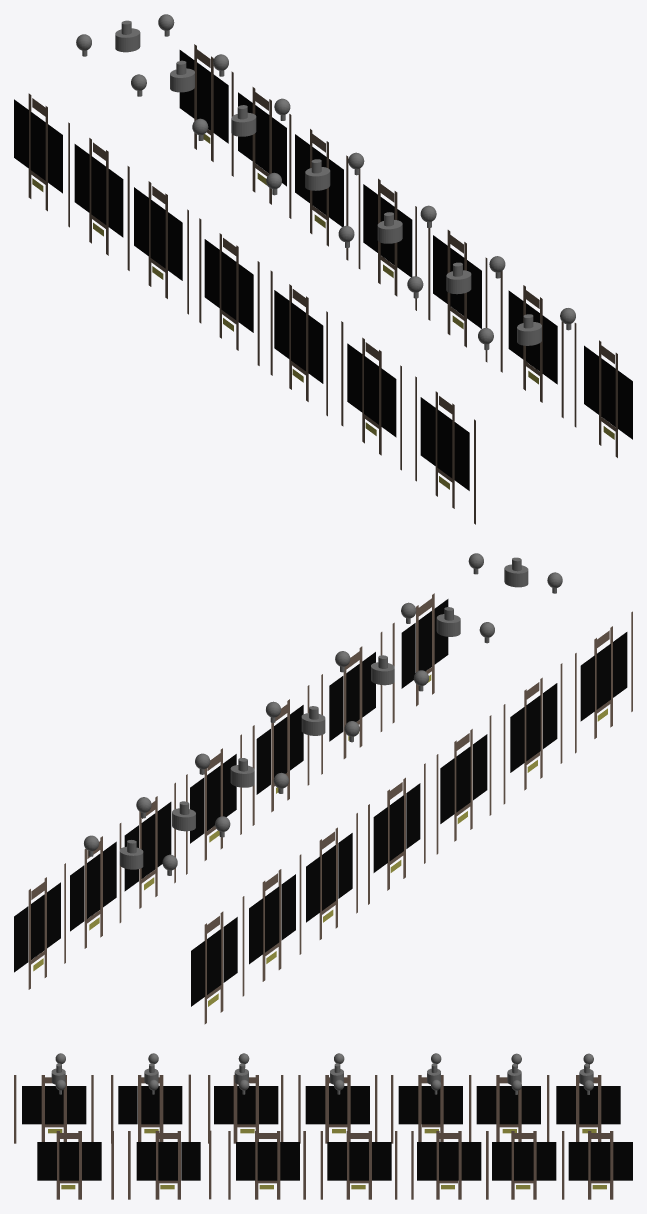
The model's file is lnwr-50ft-non-cor-arc-composite-windows.dae.
The picture shows the model from 3 angles, top to bottom: view 1: azimuth 30°, elevation 25°; view 2: azimuth 150°, elevation 25°; view 3: azimuth 270°, elevation 25°; orthographic projection. The views are drawn at different scales.
Visible parts, largest first — view 1: Plane_561, Plane_589, Plane_625, Plane_647, Plane_649, Plane_661, Plane_606, Plane_611, Plane_612, Plane_613, Plane_629, Plane_630 (+24 smaller); view 2: Plane_591, Plane_648, Plane_523, Plane_605, Plane_611, Plane_631, Plane_643, Plane_644, Plane_556, Plane_559, Plane_606, Plane_607 (+28 smaller); view 3: Plane_523, Plane_538, Plane_555, Plane_589, Plane_590, Plane_611, Plane_626, Plane_629, Plane_524, Plane_525, Plane_536, Plane_537 (+56 smaller).
Part boxes in pixels (x1=…): Plane_561: x1=542, y1=315, x2=557, y2=384; Plane_589: x1=213, y1=74, x2=228, y2=143; Plane_625: x1=150, y1=199, x2=165, y2=268; Plane_647: x1=381, y1=368, x2=396, y2=437; Plane_649: x1=347, y1=343, x2=362, y2=412; Plane_661: x1=437, y1=409, x2=452, y2=478; Plane_606: x1=30, y1=112, x2=45, y2=180; Plane_611: x1=108, y1=169, x2=123, y2=237; Plane_612: x1=91, y1=156, x2=106, y2=224; Plane_613: x1=74, y1=144, x2=89, y2=212; Plane_629: x1=238, y1=264, x2=253, y2=332; Plane_630: x1=221, y1=251, x2=236, y2=319; Plane_591: x1=14, y1=906, x2=28, y2=972; Plane_648: x1=526, y1=695, x2=540, y2=761; Plane_523: x1=70, y1=865, x2=84, y2=931; Plane_605: x1=191, y1=940, x2=205, y2=1006; Plane_611: x1=281, y1=874, x2=295, y2=940; Plane_631: x1=373, y1=807, x2=387, y2=872; Plane_643: x1=456, y1=746, x2=470, y2=812; Plane_644: x1=473, y1=734, x2=487, y2=800; Plane_556: x1=256, y1=729, x2=270, y2=794; Plane_559: x1=329, y1=676, x2=343, y2=741; Plane_606: x1=207, y1=929, x2=221, y2=994; Plane_607: x1=223, y1=917, x2=237, y2=982; Plane_523: x1=536, y1=1142, x2=556, y2=1180; Plane_538: x1=461, y1=1142, x2=481, y2=1180; Plane_555: x1=257, y1=1142, x2=277, y2=1180; Plane_589: x1=568, y1=1142, x2=588, y2=1180; Plane_590: x1=590, y1=1142, x2=610, y2=1180; Plane_611: x1=476, y1=1086, x2=496, y2=1124; Plane_626: x1=398, y1=1086, x2=418, y2=1124; Plane_629: x1=305, y1=1086, x2=325, y2=1124; Plane_524: x1=514, y1=1142, x2=533, y2=1180; Plane_525: x1=492, y1=1142, x2=511, y2=1180; Plane_536: x1=417, y1=1142, x2=436, y2=1180; Plane_537: x1=439, y1=1142, x2=458, y2=1180.
Bounding box in the file's own units: 1.82 × 8.47 × 1.61.
